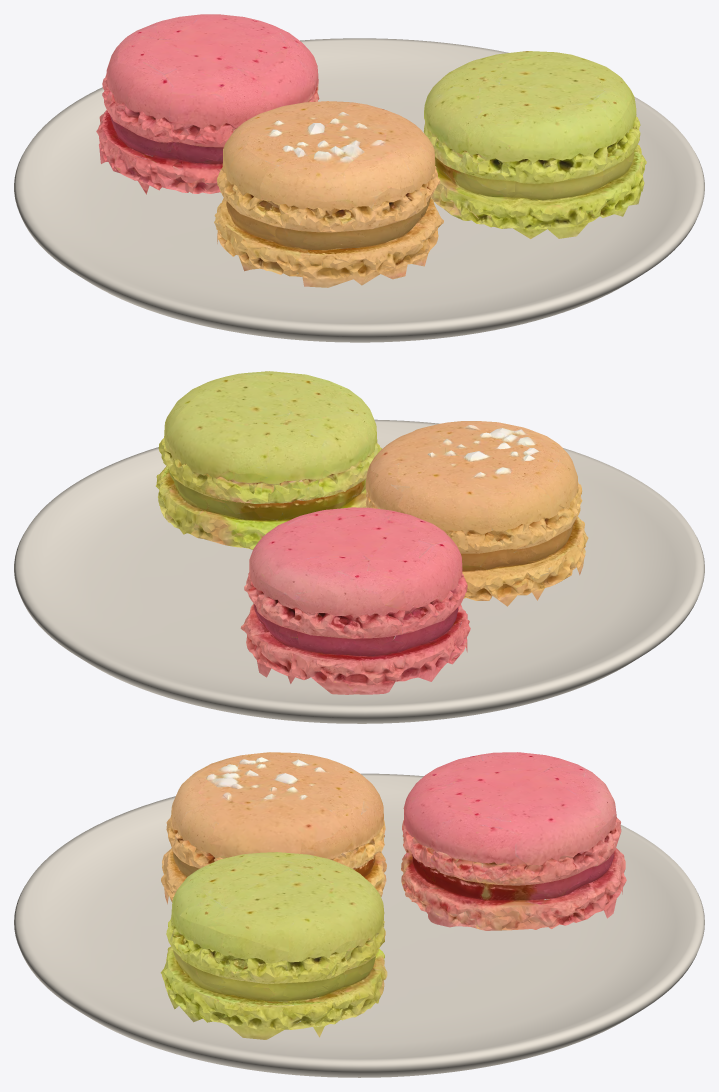
The picture shows the model from 3 angles, top to bottom: view 1: azimuth 30°, elevation 25°; view 2: azimuth 150°, elevation 25°; view 3: azimuth 270°, elevation 25°; orthographic projection.
Parts seen in each view (by area): view 1: Mesh_0, Ivory plate; view 2: Mesh_0, Ivory plate; view 3: Mesh_0, Ivory plate.
Part boxes in pixels (x1=…): Mesh_0: x1=96, y1=14, x2=646, y2=287; Ivory plate: x1=14, y1=38, x2=704, y2=342; Mesh_0: x1=156, y1=371, x2=588, y2=694; Ivory plate: x1=14, y1=419, x2=704, y2=723; Mesh_0: x1=160, y1=752, x2=626, y2=1039; Ivory plate: x1=14, y1=773, x2=704, y2=1077.
Bounding box in the file's own units: 1.83 × 0.4325 × 1.83.
2 materials, 1 textured.
